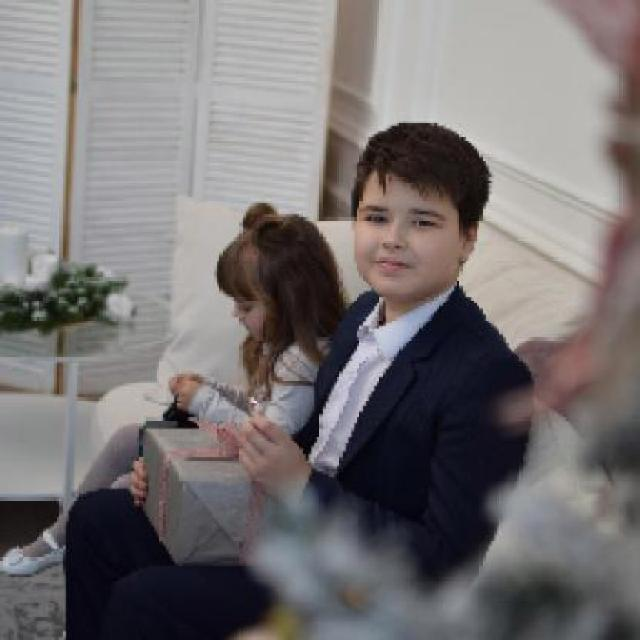child: (3, 200, 343, 577)
